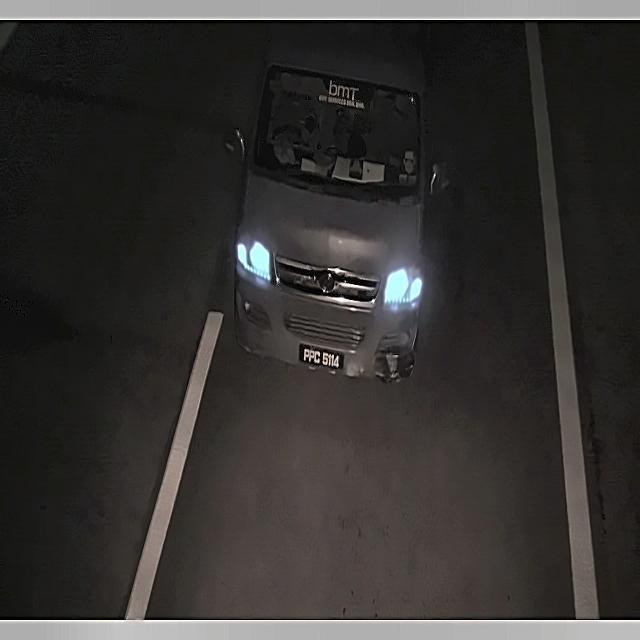car: (298, 336, 347, 380)
